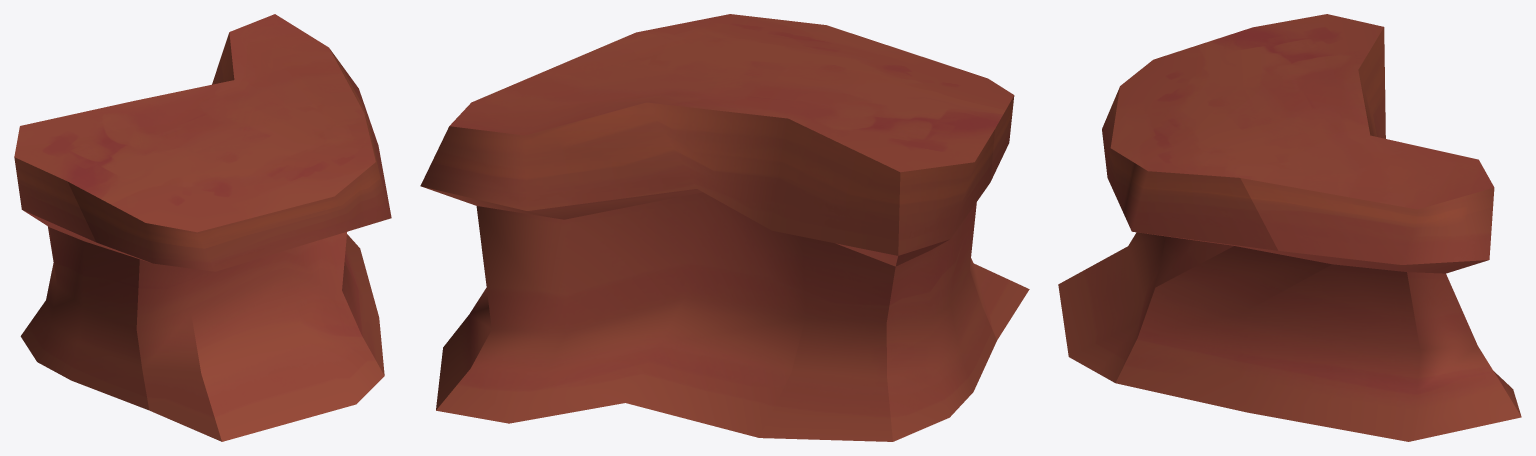
File: S_Jungle_Rock_02.fbx
The picture shows the model from 3 angles, left to right: view 1: azimuth 30°, elevation 25°; view 2: azimuth 150°, elevation 25°; view 3: azimuth 270°, elevation 25°; orthographic projection. The views are drawn at different scales.
Parts seen in each view (by area): view 1: Jungle_Rock_02; view 2: Jungle_Rock_02; view 3: Jungle_Rock_02.
Boxes of the visible parts, box(x1,y1,x2,y2) form: Jungle_Rock_02: box(14, 14, 391, 441); Jungle_Rock_02: box(420, 14, 1029, 441); Jungle_Rock_02: box(1058, 14, 1521, 441).
Bounding box in the file's own units: 793 × 446 × 776.
